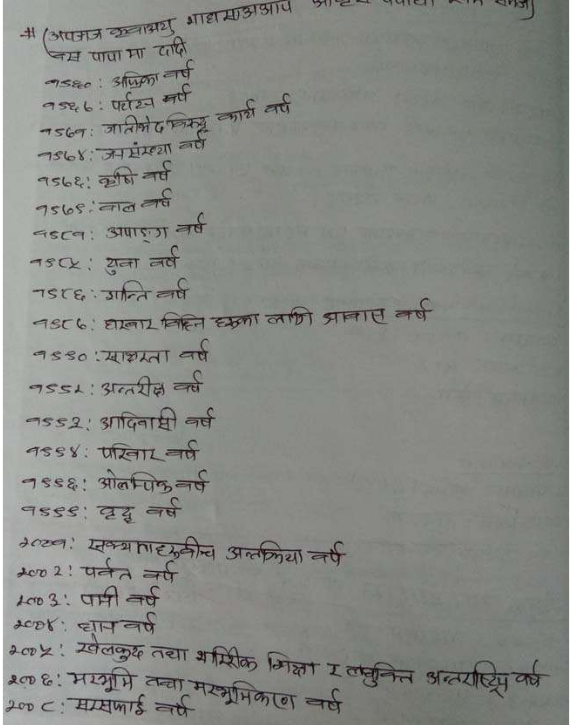text: (192, 677, 296, 714), (423, 659, 509, 700), (85, 536, 222, 560), (184, 1, 296, 27), (342, 658, 415, 691), (97, 406, 179, 433), (67, 663, 135, 694), (73, 636, 144, 665), (226, 539, 305, 565), (96, 138, 174, 163), (98, 469, 172, 495), (197, 643, 261, 672), (96, 374, 167, 400), (70, 696, 147, 718), (100, 113, 164, 137), (104, 222, 168, 246), (20, 471, 81, 495), (267, 650, 318, 678), (108, 18, 176, 38), (161, 307, 209, 335), (24, 378, 85, 400), (98, 442, 158, 463), (22, 442, 85, 462), (321, 306, 387, 325), (213, 98, 259, 125), (80, 559, 134, 582), (29, 224, 88, 245), (302, 688, 344, 717), (30, 345, 88, 366), (103, 347, 170, 365), (99, 279, 149, 303), (19, 502, 82, 521), (32, 283, 88, 304), (305, 539, 345, 568), (4, 696, 56, 718), (29, 315, 89, 334), (267, 305, 314, 329), (511, 659, 545, 692), (392, 296, 432, 324), (102, 312, 155, 333), (209, 312, 261, 333), (77, 583, 119, 609), (35, 199, 87, 220), (39, 95, 93, 115), (119, 609, 158, 636), (21, 414, 85, 430), (87, 45, 147, 62), (171, 368, 205, 398), (18, 533, 69, 553), (36, 171, 84, 192), (11, 589, 61, 609), (5, 641, 55, 661), (11, 562, 66, 580), (140, 186, 178, 212), (123, 583, 161, 609), (155, 274, 190, 302), (110, 69, 161, 88), (29, 255, 86, 272), (35, 147, 88, 165), (262, 90, 296, 118), (173, 210, 208, 237), (139, 560, 180, 583), (8, 616, 60, 634), (45, 74, 94, 93), (95, 503, 137, 525), (4, 671, 55, 689), (98, 165, 136, 189), (174, 469, 209, 495), (165, 109, 208, 130), (176, 339, 215, 362), (110, 92, 154, 112), (164, 439, 202, 462), (104, 253, 140, 277), (75, 616, 118, 636), (182, 404, 216, 429), (46, 29, 102, 44), (146, 499, 181, 523), (148, 644, 190, 664), (152, 698, 190, 720), (143, 674, 186, 693), (177, 128, 208, 154), (159, 83, 194, 106), (38, 123, 87, 139), (45, 45, 84, 65), (97, 197, 138, 215), (148, 248, 180, 271), (140, 161, 173, 183), (153, 39, 189, 58), (161, 62, 193, 82), (324, 663, 342, 680)
